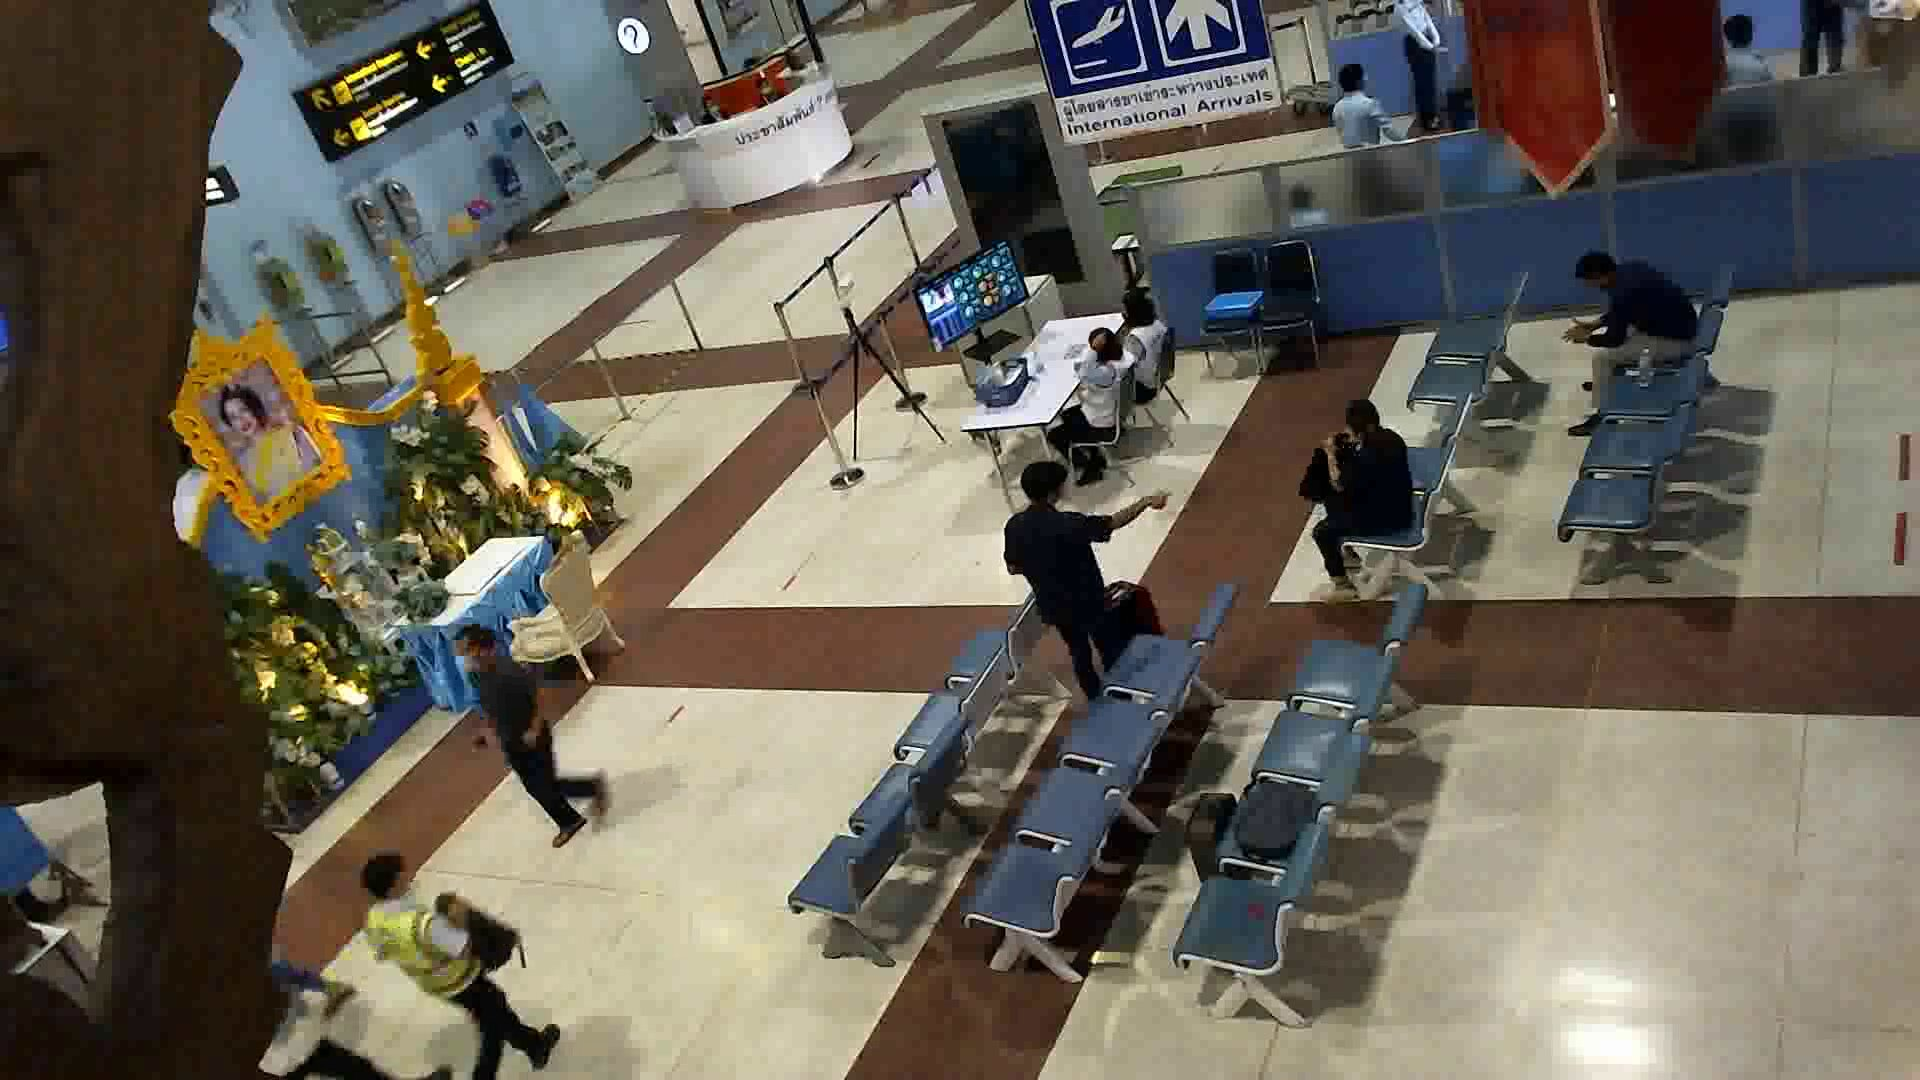backpack: (1237, 778, 1316, 861), (1295, 441, 1345, 503)
luggage: (1187, 778, 1254, 901), (1095, 590, 1162, 666)
people: (356, 843, 572, 1080), (999, 449, 1147, 703), (449, 622, 612, 849), (1558, 238, 1701, 443), (1301, 391, 1426, 609), (1054, 330, 1129, 484), (1112, 284, 1174, 409)
